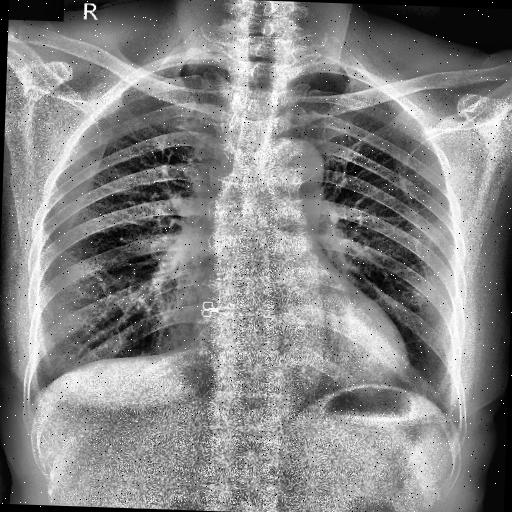0- Aortic enlargement: (260, 138, 326, 216), (261, 135, 323, 196), (270, 138, 324, 180)
3- Cardiomegaly: (187, 317, 407, 382)
